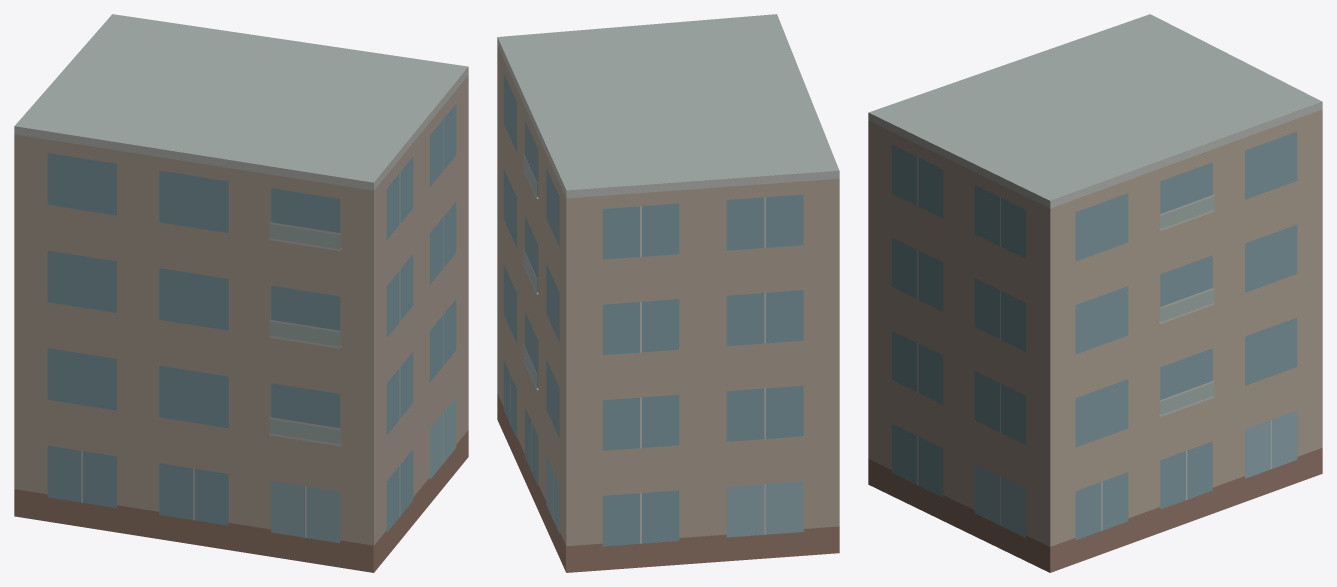
File: survey-upis-32679875.glb
The picture shows the model from 3 angles, left to right: view 1: azimuth 30°, elevation 25°; view 2: azimuth 150°, elevation 25°; view 3: azimuth 270°, elevation 25°; orthographic projection. The views are drawn at different scales.
Visible parts, largest first — view 1: survey-upis-32679875.tmp; view 2: survey-upis-32679875.tmp; view 3: survey-upis-32679875.tmp.
Part boxes in pixels (left/top/right/bottom): survey-upis-32679875.tmp: left=14, top=14, right=468, bottom=572; survey-upis-32679875.tmp: left=497, top=14, right=839, bottom=572; survey-upis-32679875.tmp: left=868, top=14, right=1322, bottom=572.
Bounding box in the file's own units: 12.61 × 11.7 × 12.96.
